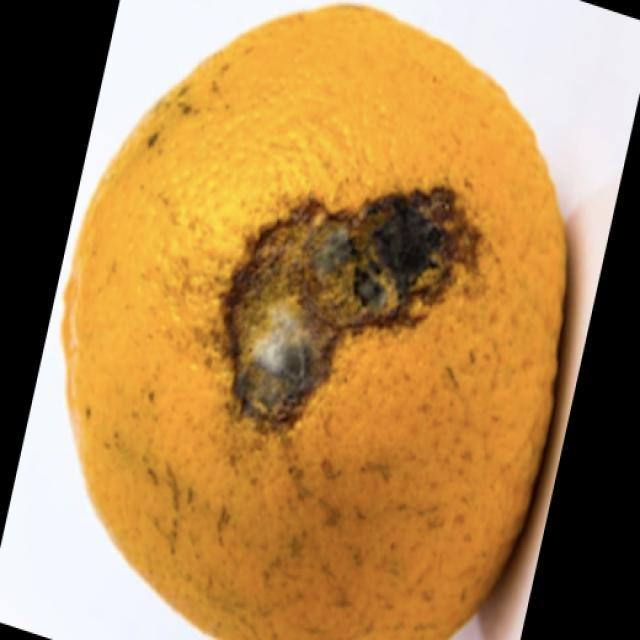sedikit-busuk: (64, 6, 563, 639), (225, 187, 476, 425)
